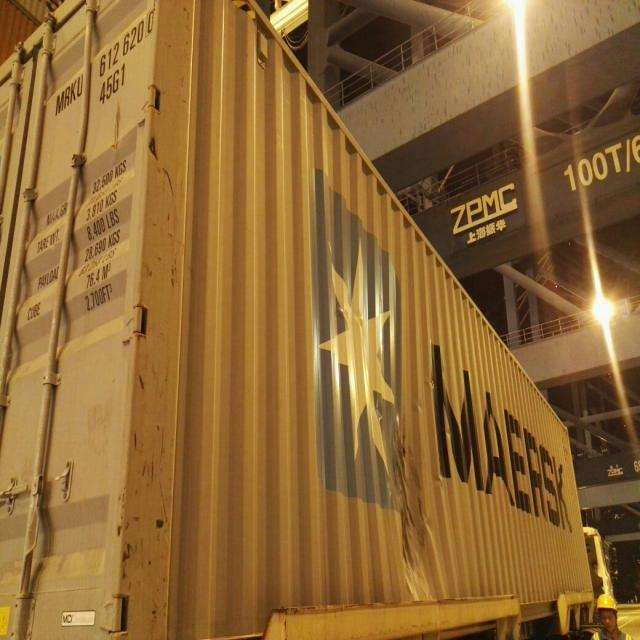dent: (377, 406, 455, 613)
